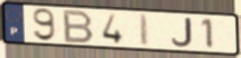1: (199, 18, 216, 50)
4: (100, 12, 127, 46)
9: (31, 6, 58, 43)
B: (62, 8, 96, 44)
I: (138, 13, 151, 48)
J: (170, 17, 194, 48)
